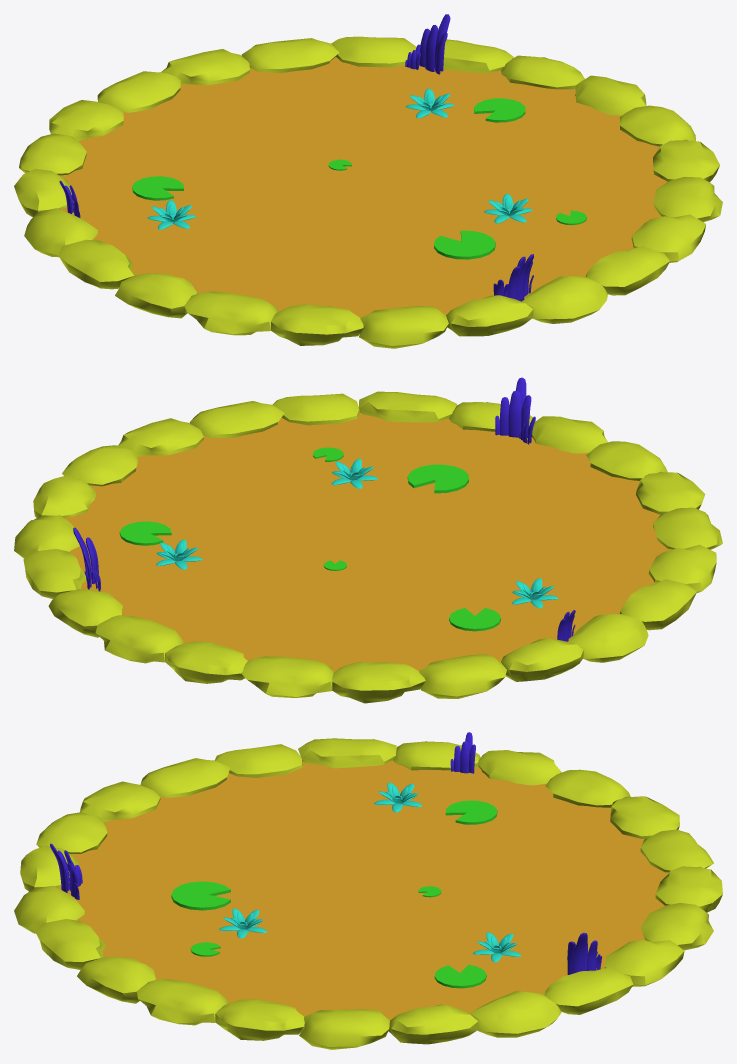
The model's file is kolam_edit.fbx.
3 renders of one model, top to bottom at view 1: azimuth 30°, elevation 25°; view 2: azimuth 150°, elevation 25°; view 3: azimuth 270°, elevation 25°, orthographic.
Parts seen in each view (by area): view 1: Pond; view 2: Pond; view 3: Pond.
Boxes of the visible parts, left/top/right/bottom form: Pond: left=14, top=14, right=722, bottom=348; Pond: left=14, top=377, right=722, bottom=703; Pond: left=14, top=732, right=722, bottom=1049.
Size of the model in its own units: 4385 by 454 by 4407.
